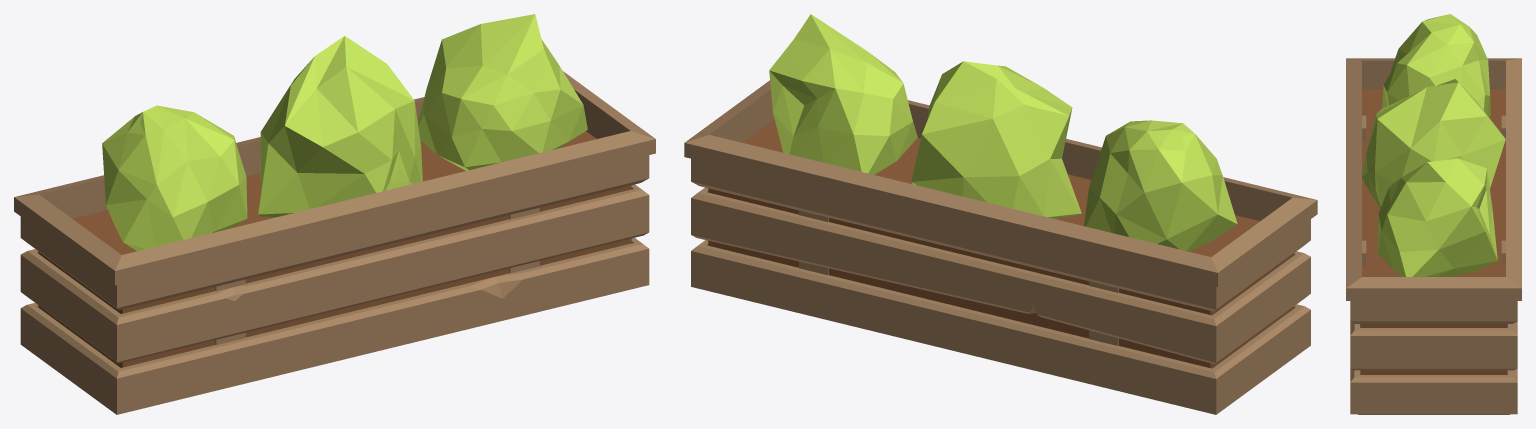
The model's file is Planter & Bushes.glb.
3 renders of one model, left to right at view 1: azimuth 30°, elevation 25°; view 2: azimuth 150°, elevation 25°; view 3: azimuth 270°, elevation 25°, orthographic. The views are drawn at different scales.
Visible parts, largest first — view 1: PlanterBushes; view 2: PlanterBushes; view 3: PlanterBushes.
Boxes of the visible parts, x1,y1,x2,y2 form: PlanterBushes: (14,14,655,414); PlanterBushes: (684,14,1317,414); PlanterBushes: (1346,14,1521,414).
Size of the model in its own units: 2.37 by 1.12 by 0.7672.
